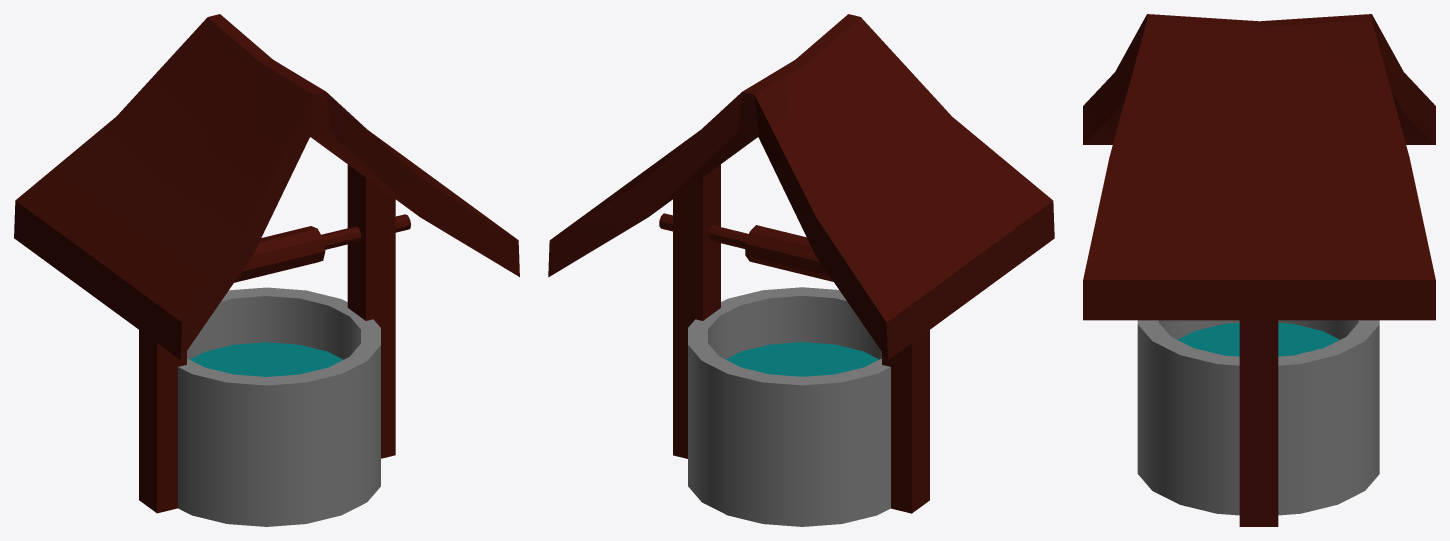
The model's file is SM_Well_00 (1).fbx.
3 renders of one model, left to right at view 1: azimuth 30°, elevation 25°; view 2: azimuth 150°, elevation 25°; view 3: azimuth 270°, elevation 25°, orthographic. The views are drawn at different scales.
Visible parts, largest first — view 1: M_Well_00, M_Well_01, M_Well_02; view 2: M_Well_00, M_Well_01, M_Well_02; view 3: M_Well_00, M_Well_01, M_Well_02.
Part boxes in pixels (box(x1,y1,x2,y2)): M_Well_00: box(14, 14, 519, 513); M_Well_01: box(178, 287, 380, 526); M_Well_02: box(190, 342, 343, 376); M_Well_00: box(548, 14, 1054, 513); M_Well_01: box(688, 287, 890, 526); M_Well_02: box(726, 342, 878, 376); M_Well_00: box(1083, 14, 1435, 526); M_Well_01: box(1137, 320, 1379, 515); M_Well_02: box(1177, 322, 1339, 356).
Bounding box in the file's own units: 158 × 188 × 134.
